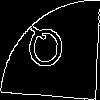Q: (25, 25, 65, 77)
